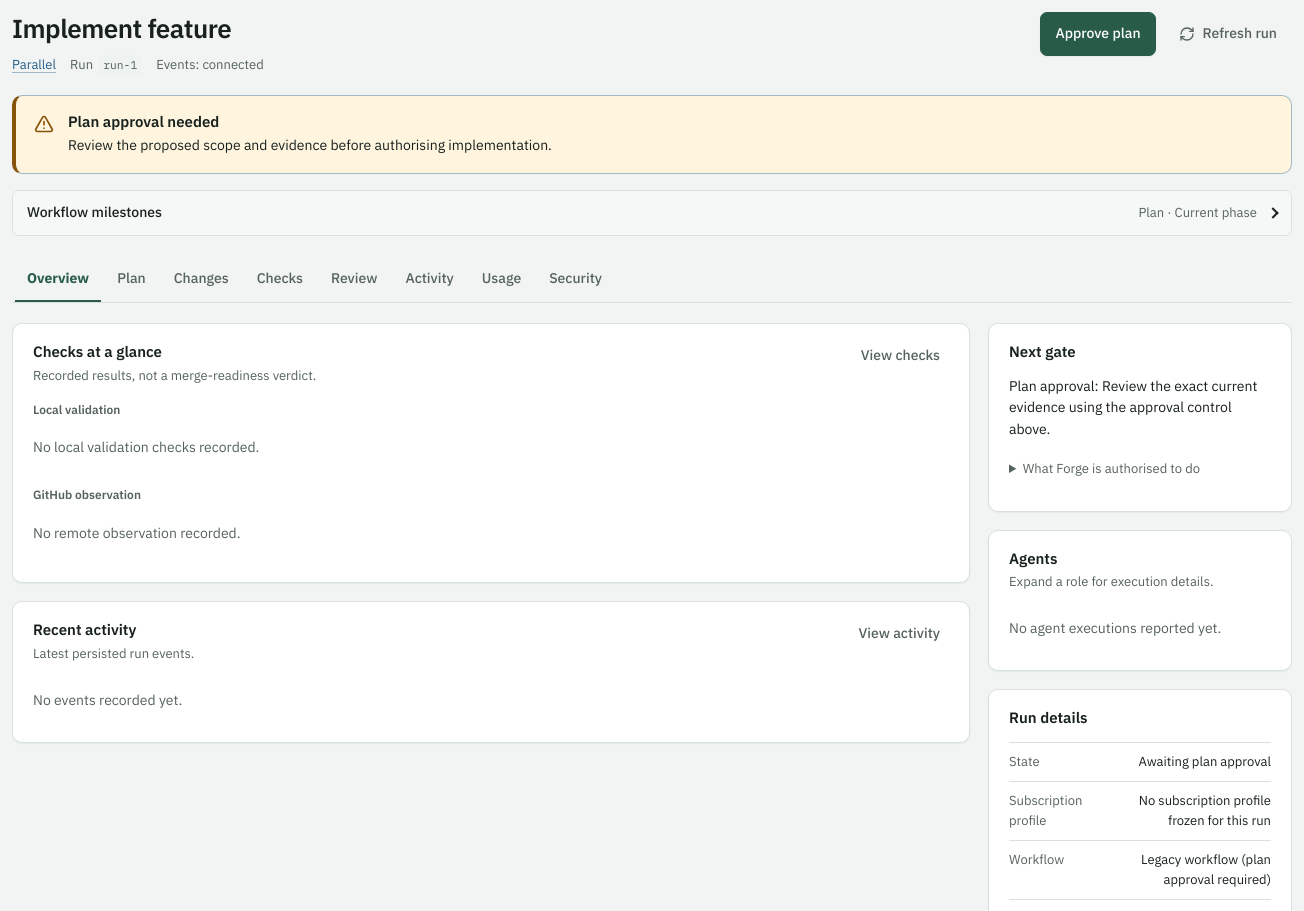
Test case: background projection refresh keeps approval actions keyboard reachable
Click the button "Refresh run" at (1228, 34), box [1164,12,1292,56]
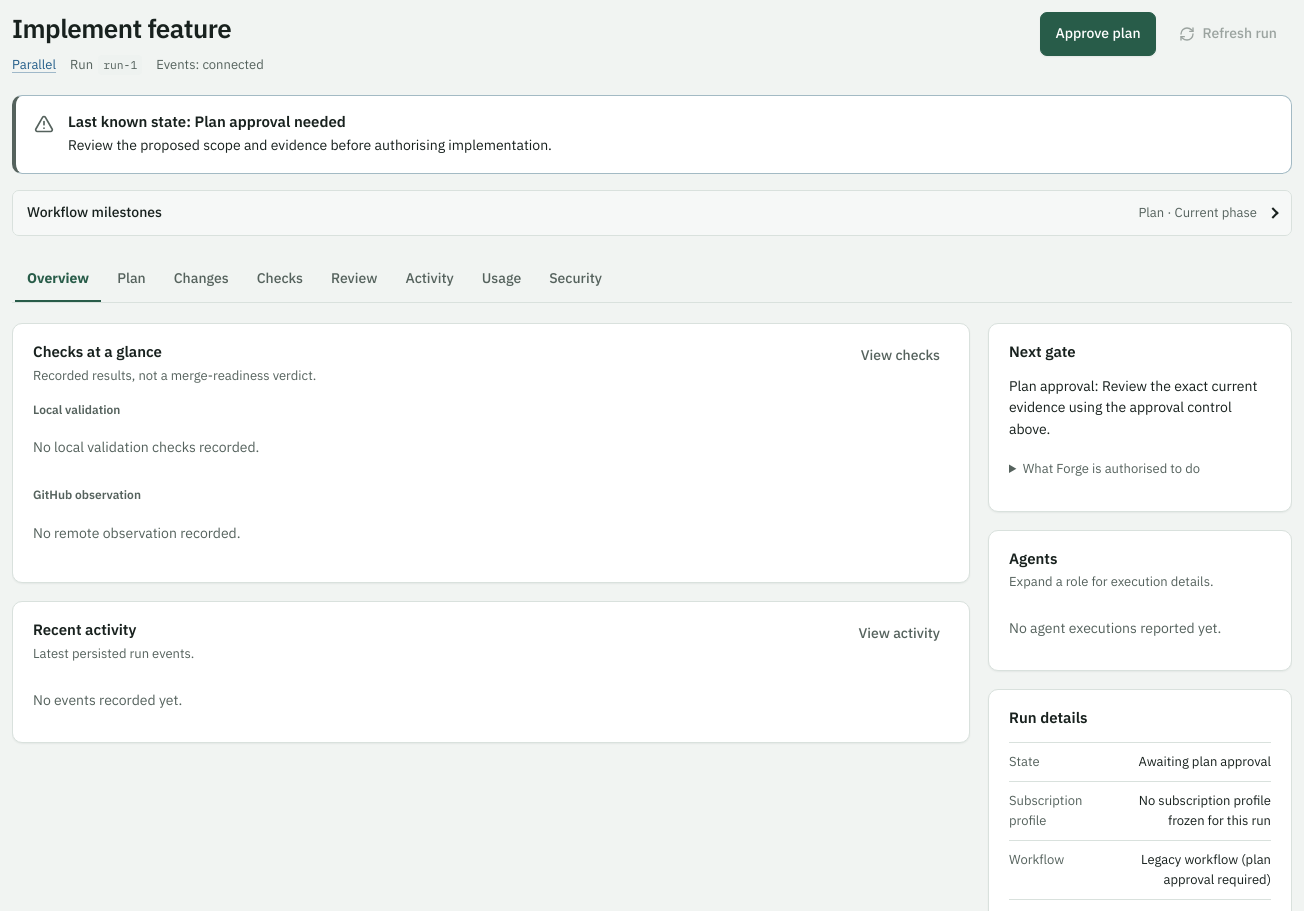
Expected: the button "Approve plan" is enabled, [1040,12,1156,56]
Now the button "Refresh run" is disabled, box [1164,12,1292,56]
